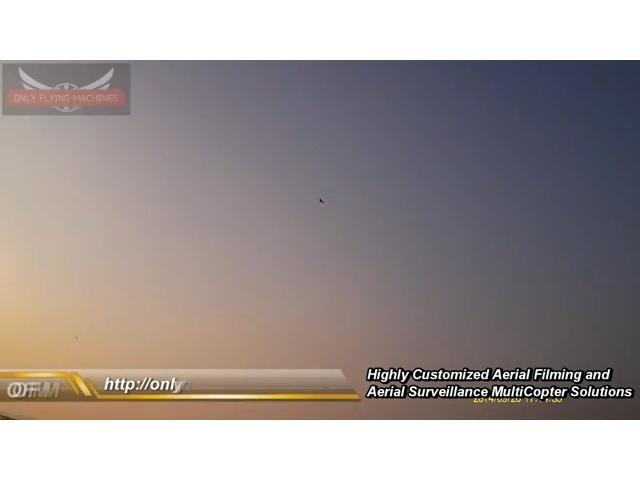Anti-Drone: (310, 194, 332, 209)
